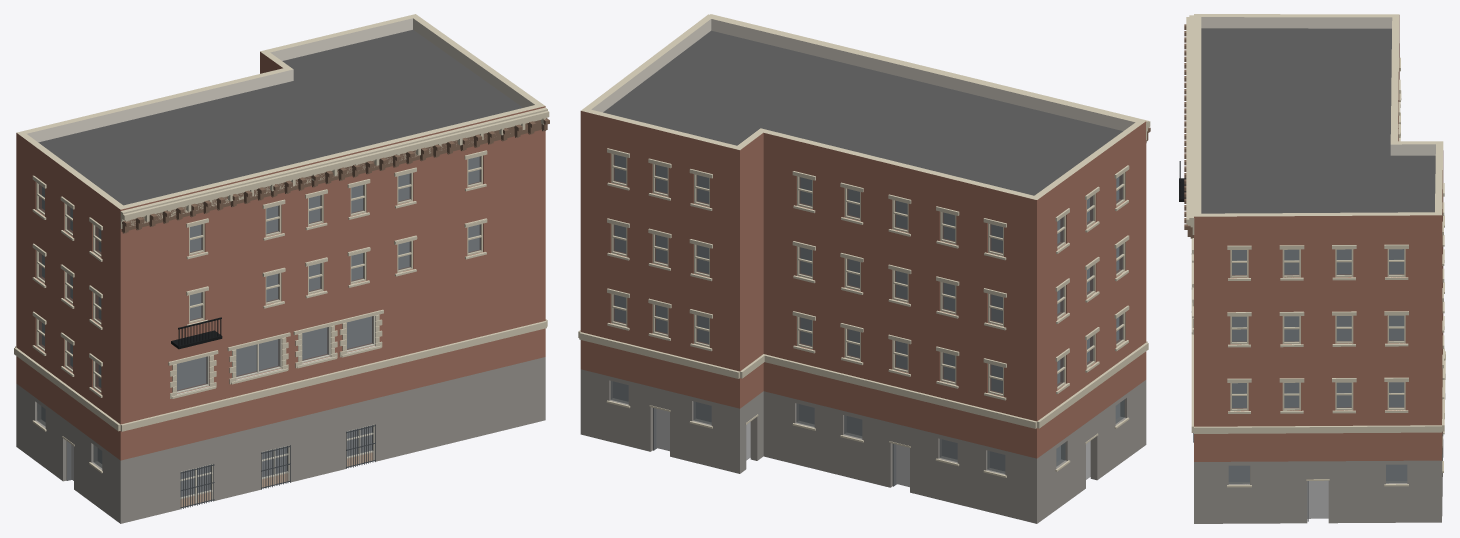
Rendered from exterior.glb.
3 renders of one model, left to right at view 1: azimuth 30°, elevation 25°; view 2: azimuth 150°, elevation 25°; view 3: azimuth 270°, elevation 25°, orthographic. The views are drawn at different scales.
Visible parts, largest first — view 1: shell, roof, trim, glazing, shadow-proxy, hand-ornament, front-dressing-r4, frames, storefront; view 2: shell, roof, trim, glazing, shadow-proxy, frames; view 3: shell, roof, trim, shadow-proxy, glazing, frames, front-dressing-r4, hand-ornament.
Part boxes in pixels (x1,y1,x2,y2): shell: (16,14,545,523); roof: (38,30,522,205); trim: (14,107,549,473); glazing: (37,156,480,496); shadow-proxy: (41,157,479,496); hand-ornament: (168,219,487,398); front-dressing-r4: (121,118,549,233); frames: (36,155,482,393); storefront: (62,424,375,509); shell: (580,14,1146,523); roof: (603,30,1122,195); trim: (578,14,1150,477); glazing: (610,154,1124,473); shadow-proxy: (613,155,1119,487); frames: (611,153,1125,396); shell: (1194,14,1443,523); roof: (1201,28,1435,213); trim: (1186,15,1445,487); shadow-proxy: (1229,249,1406,518); glazing: (1228,249,1407,483); frames: (1230,249,1405,410); front-dressing-r4: (1184,24,1193,238); hand-ornament: (1179,161,1193,334).
Size of the model in its own units: 22.7 by 15.87 by 12.49.
